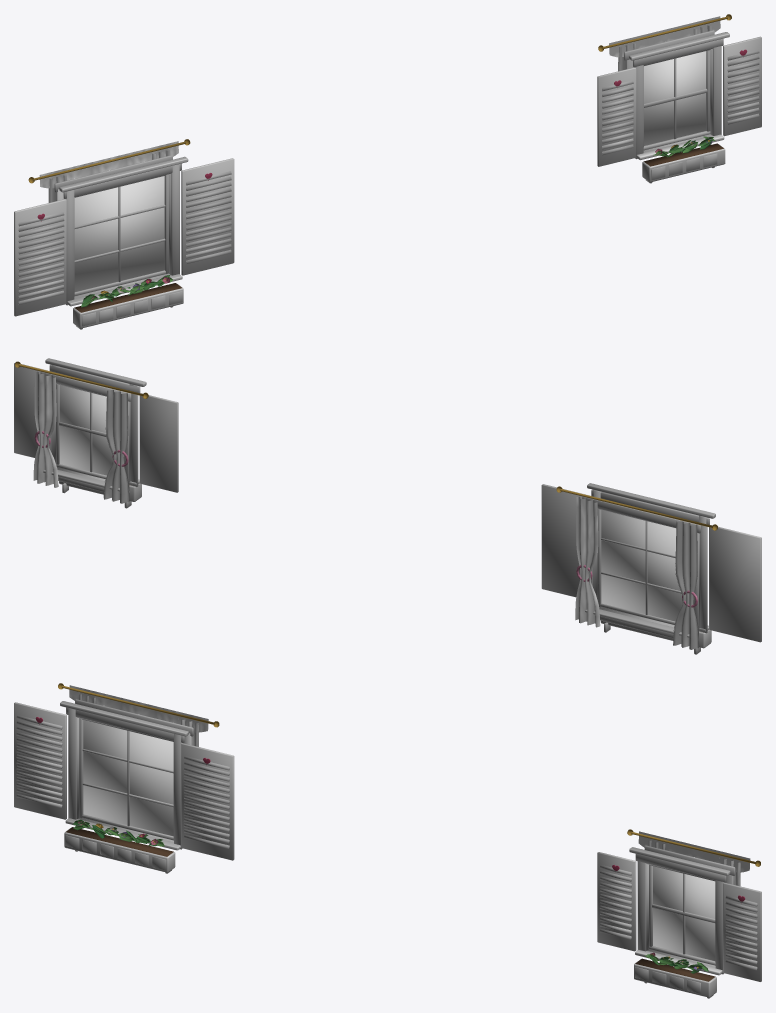
Rendered from bld_home_shell2.glb.
3 views of the same model, one above another, from view 1: azimuth 30°, elevation 25°; view 2: azimuth 150°, elevation 25°; view 3: azimuth 330°, elevation 25° (orthographic).
Visible parts, largest first — view 1: INST_bld_home_shell2_window_m_s_shutter, INST_bld_home_shell2_window_m_s_glass, INST_bld_home_shell2_window_s_s_shutter, INST_bld_home_shell2_window_m_s_trim, INST_bld_home_shell2_window_s_s_trim, INST_bld_home_shell2_window_s_s_glass, INST_bld_home_shell2_window_m_s_fixed, INST_bld_home_shell2_window_m_s_box, INST_bld_home_shell2_window_m_s_curtain, INST_bld_home_shell2_window_s_s_fixed, INST_bld_home_shell2_window_s_s_curtain, INST_bld_home_shell2_window_s_s_box; view 2: INST_bld_home_shell2_window_m_s_shutter, INST_bld_home_shell2_window_m_s_glass, INST_bld_home_shell2_window_m_s_trim, INST_bld_home_shell2_window_s_s_shutter, INST_bld_home_shell2_window_m_s_curtain, INST_bld_home_shell2_window_s_s_trim, INST_bld_home_shell2_window_s_s_curtain, INST_bld_home_shell2_window_s_s_glass, INST_bld_home_shell2_window_m_s_fixed, INST_bld_home_shell2_window_s_s_fixed, INST_bld_home_shell2_window_m_s_box; view 3: INST_bld_home_shell2_window_m_s_shutter, INST_bld_home_shell2_window_m_s_glass, INST_bld_home_shell2_window_s_s_shutter, INST_bld_home_shell2_window_m_s_trim, INST_bld_home_shell2_window_s_s_trim, INST_bld_home_shell2_window_s_s_glass, INST_bld_home_shell2_window_m_s_fixed, INST_bld_home_shell2_window_m_s_box, INST_bld_home_shell2_window_m_s_curtain, INST_bld_home_shell2_window_s_s_fixed, INST_bld_home_shell2_window_s_s_curtain, INST_bld_home_shell2_window_s_s_box.
Boxes of the visible parts, x1=… form: INST_bld_home_shell2_window_m_s_shutter: x1=14, y1=158, x2=234, y2=316; INST_bld_home_shell2_window_m_s_glass: x1=74, y1=176, x2=164, y2=291; INST_bld_home_shell2_window_s_s_shutter: x1=597, y1=36, x2=761, y2=166; INST_bld_home_shell2_window_m_s_trim: x1=54, y1=155, x2=188, y2=306; INST_bld_home_shell2_window_s_s_trim: x1=624, y1=30, x2=729, y2=160; INST_bld_home_shell2_window_s_s_glass: x1=644, y1=51, x2=706, y2=145; INST_bld_home_shell2_window_m_s_fixed: x1=28, y1=139, x2=212, y2=312; INST_bld_home_shell2_window_m_s_box: x1=73, y1=283, x2=183, y2=329; INST_bld_home_shell2_window_m_s_curtain: x1=39, y1=141, x2=178, y2=202; INST_bld_home_shell2_window_s_s_fixed: x1=598, y1=14, x2=747, y2=166; INST_bld_home_shell2_window_s_s_curtain: x1=609, y1=16, x2=720, y2=71; INST_bld_home_shell2_window_s_s_box: x1=642, y1=144, x2=725, y2=183; INST_bld_home_shell2_window_m_s_shutter: x1=541, y1=484, x2=761, y2=642; INST_bld_home_shell2_window_m_s_glass: x1=601, y1=510, x2=682, y2=621; INST_bld_home_shell2_window_m_s_trim: x1=582, y1=483, x2=715, y2=638; INST_bld_home_shell2_window_s_s_shutter: x1=14, y1=363, x2=178, y2=492; INST_bld_home_shell2_window_m_s_curtain: x1=575, y1=496, x2=698, y2=649; INST_bld_home_shell2_window_s_s_trim: x1=40, y1=358, x2=146, y2=492; INST_bld_home_shell2_window_s_s_curtain: x1=33, y1=371, x2=129, y2=503; INST_bld_home_shell2_window_s_s_glass: x1=59, y1=385, x2=113, y2=475; INST_bld_home_shell2_window_m_s_fixed: x1=556, y1=486, x2=717, y2=607; INST_bld_home_shell2_window_s_s_fixed: x1=15, y1=361, x2=148, y2=485; INST_bld_home_shell2_window_m_s_box: x1=600, y1=620, x2=711, y2=654; INST_bld_home_shell2_window_m_s_shutter: x1=14, y1=702, x2=234, y2=860; INST_bld_home_shell2_window_m_s_glass: x1=83, y1=720, x2=173, y2=836; INST_bld_home_shell2_window_s_s_shutter: x1=597, y1=852, x2=761, y2=981; INST_bld_home_shell2_window_m_s_trim: x1=60, y1=699, x2=193, y2=850; INST_bld_home_shell2_window_s_s_trim: x1=629, y1=845, x2=735, y2=975; INST_bld_home_shell2_window_s_s_glass: x1=653, y1=866, x2=715, y2=960; INST_bld_home_shell2_window_m_s_fixed: x1=35, y1=683, x2=219, y2=856; INST_bld_home_shell2_window_m_s_box: x1=64, y1=827, x2=175, y2=873; INST_bld_home_shell2_window_m_s_curtain: x1=69, y1=685, x2=208, y2=746; INST_bld_home_shell2_window_s_s_fixed: x1=612, y1=829, x2=760, y2=981; INST_bld_home_shell2_window_s_s_curtain: x1=638, y1=831, x2=750, y2=886; INST_bld_home_shell2_window_s_s_box: x1=634, y1=959, x2=716, y2=998.
Size of the model in its own units: 10.76 by 2.03 by 0.6416.
